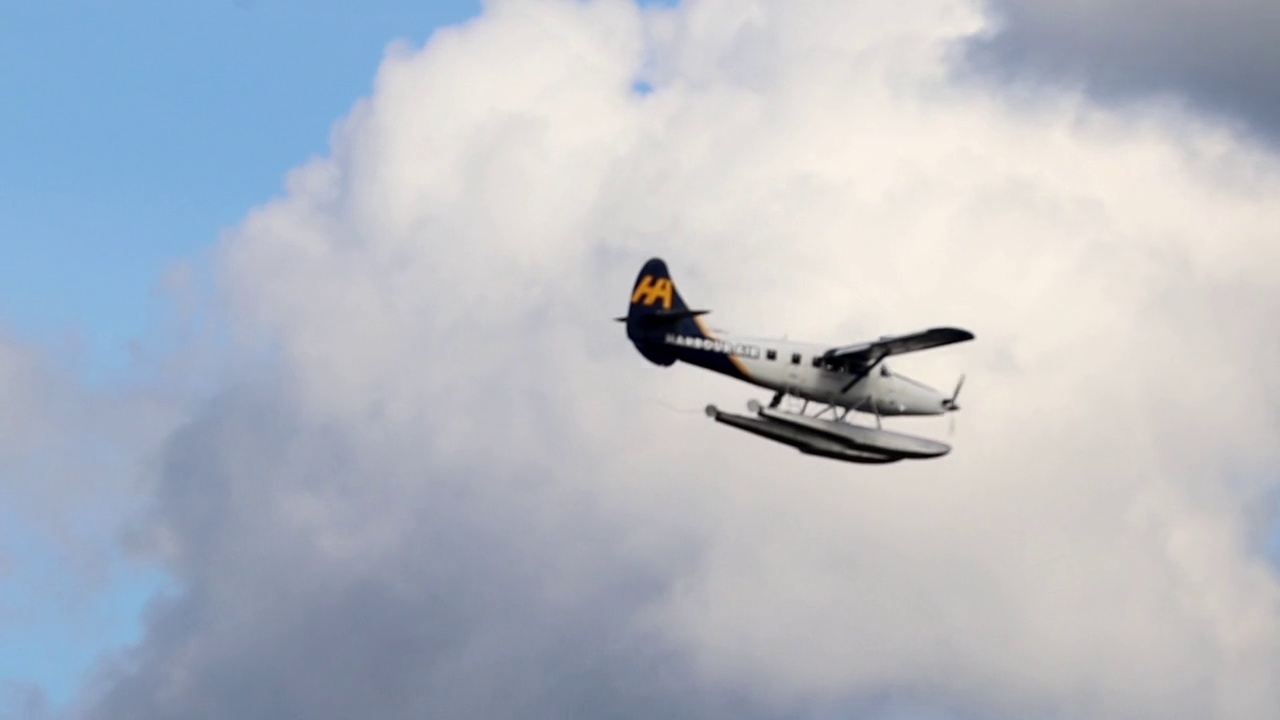plane: (614, 255, 974, 466)
